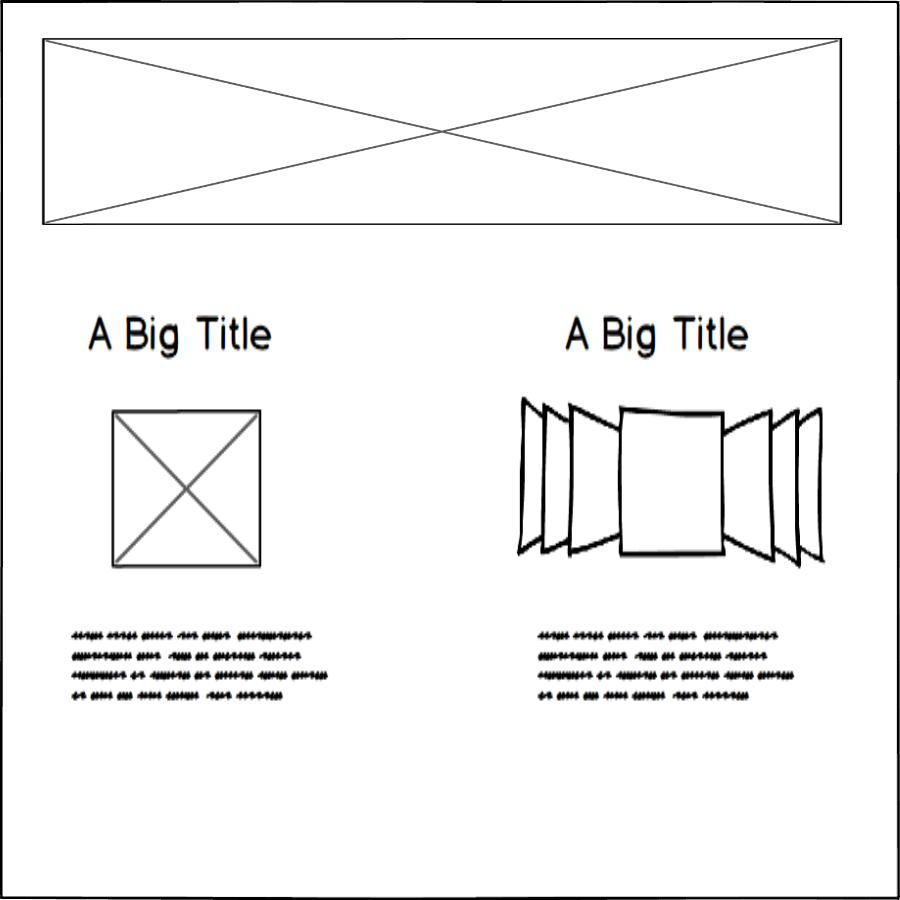h1: (565, 307, 755, 370), (85, 307, 281, 363)
image: (38, 34, 848, 233), (102, 399, 270, 575)
p: (61, 625, 344, 717), (527, 622, 798, 711)
slideshow: (512, 384, 838, 577)
